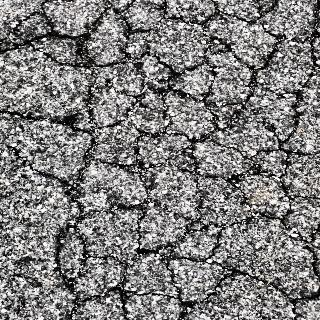alligator-crack: (2, 3, 320, 320)
